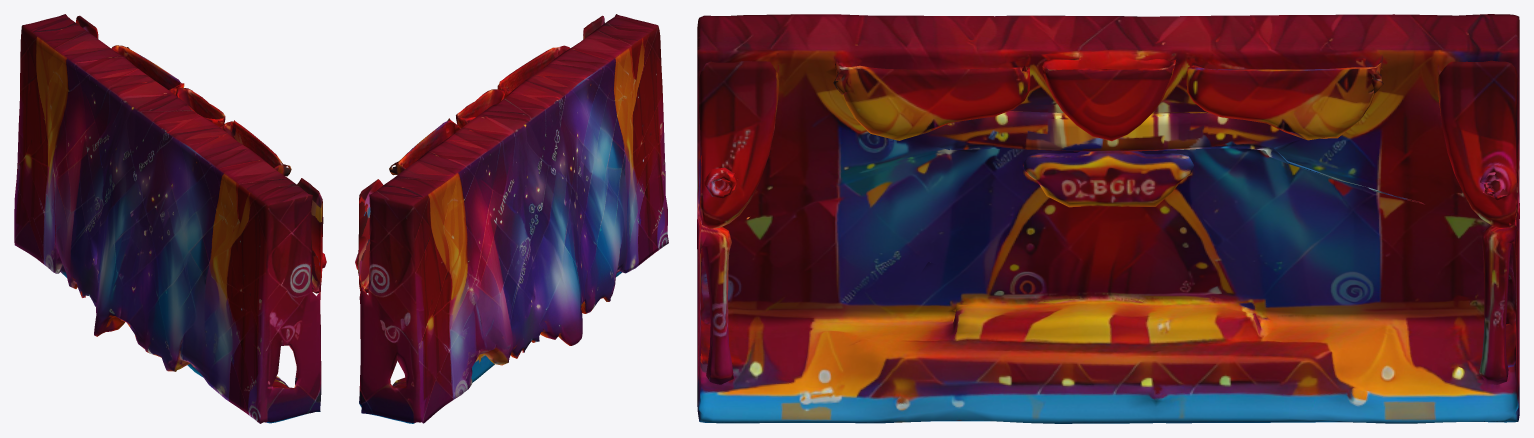
The model's file is circo.obj.
The picture shows the model from 3 angles, left to right: view 1: azimuth 30°, elevation 25°; view 2: azimuth 150°, elevation 25°; view 3: azimuth 270°, elevation 25°; orthographic projection. The views are drawn at different scales.
Visible parts, largest first — view 1: tripo_node_da6419cb-a2ac-4818-bb9f-f89152056769; view 2: tripo_node_da6419cb-a2ac-4818-bb9f-f89152056769; view 3: tripo_node_da6419cb-a2ac-4818-bb9f-f89152056769.
Boxes of the visible parts, box(x1,y1,x2,y2) form: tripo_node_da6419cb-a2ac-4818-bb9f-f89152056769: box(14, 14, 326, 423); tripo_node_da6419cb-a2ac-4818-bb9f-f89152056769: box(355, 14, 668, 423); tripo_node_da6419cb-a2ac-4818-bb9f-f89152056769: box(697, 14, 1519, 423).
Size of the model in its own units: 0.2654 by 0.4919 by 0.9991.
Materials: 1 (1 with a texture image).
